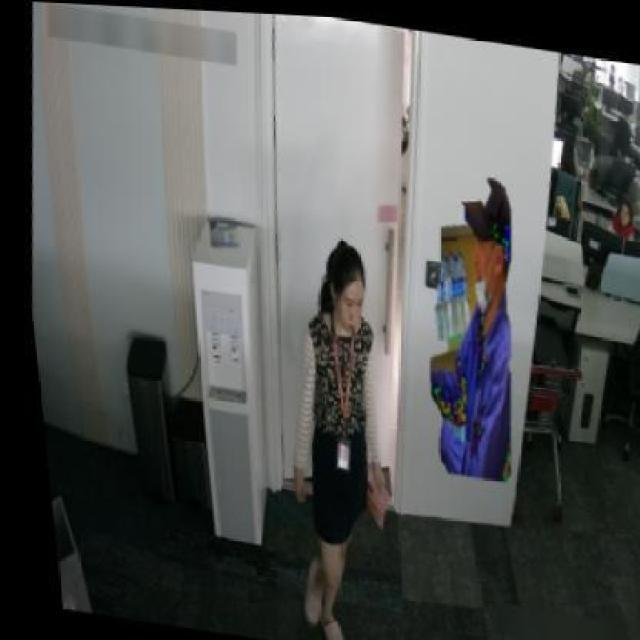hairnet: (470, 218, 496, 312)
